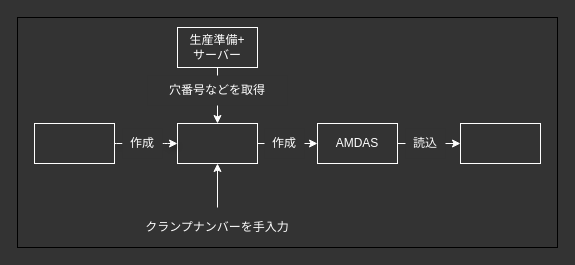
This 575x265 diagram has some shape labels left out. The shapes that lost their labels are listed below. From the top down, each one's centre as x and y in pixels, then its label:
At (x=74, y=143): "生産準備+".
At (x=217, y=143): "竿レイアウト".
At (x=500, y=143): "自動機".
